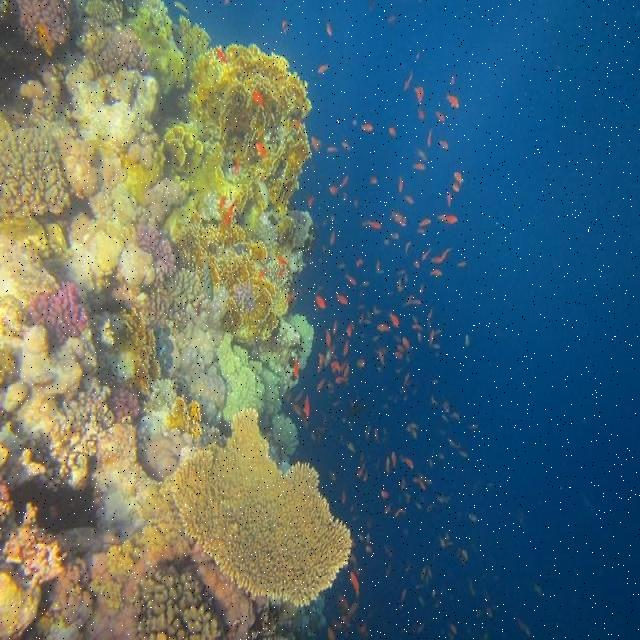fish: (390, 209, 406, 226), (432, 250, 453, 262), (444, 93, 460, 107), (388, 308, 399, 328), (351, 573, 359, 596), (438, 215, 458, 224), (310, 135, 322, 150), (314, 295, 326, 309), (454, 172, 465, 187), (414, 87, 424, 103), (346, 322, 355, 338), (316, 378, 327, 391), (404, 72, 412, 89), (339, 175, 349, 188), (336, 295, 348, 305), (402, 458, 414, 468), (403, 337, 413, 349), (364, 222, 381, 229), (407, 299, 424, 306), (349, 603, 358, 616), (377, 323, 391, 331), (435, 111, 446, 121), (378, 350, 385, 364), (413, 162, 426, 169), (336, 376, 349, 383), (304, 397, 309, 415), (345, 277, 356, 285), (318, 65, 329, 73), (325, 330, 330, 347), (429, 331, 434, 348), (418, 218, 430, 225), (358, 463, 364, 477), (357, 358, 365, 368), (391, 450, 396, 466), (389, 127, 397, 137), (431, 269, 442, 276), (361, 123, 372, 130), (381, 491, 392, 498), (447, 193, 452, 208), (329, 186, 337, 195), (412, 324, 424, 330), (326, 24, 332, 36), (330, 230, 335, 244), (452, 183, 459, 193), (442, 140, 449, 150), (344, 340, 349, 353), (399, 177, 403, 193), (405, 196, 413, 203), (386, 458, 390, 471), (428, 130, 431, 147), (396, 351, 404, 357)
reefs: (0, 0, 353, 636)
